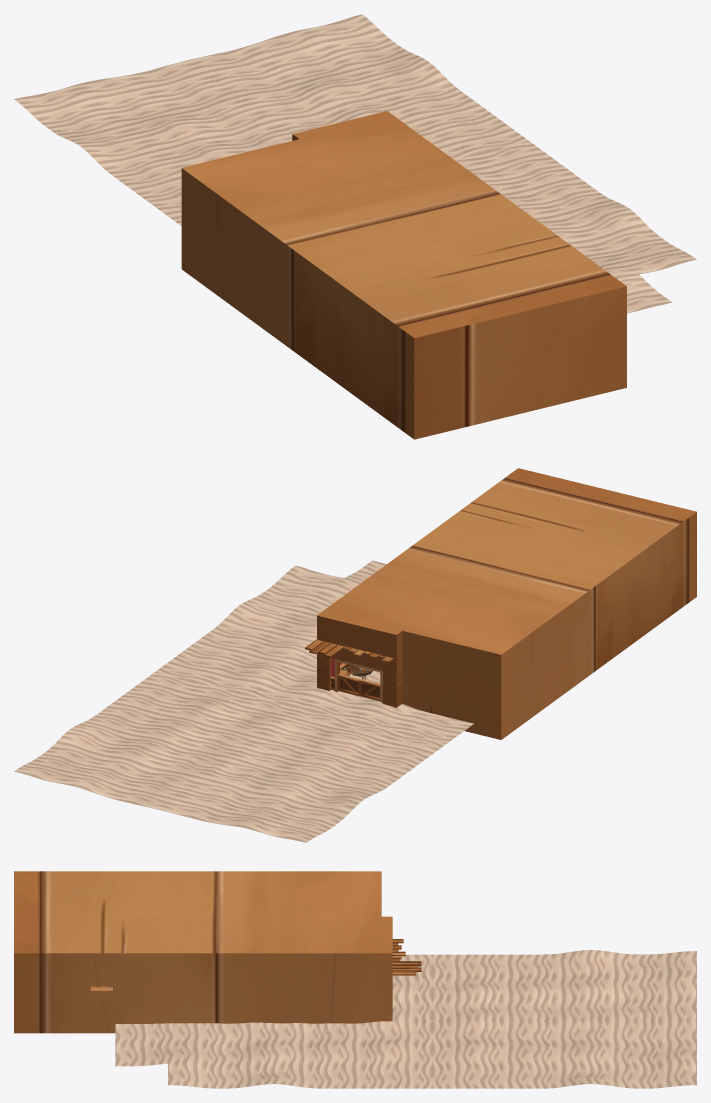
The model's file is garageB_applied2.fbx.
3 renders of one model, top to bottom at view 1: azimuth 30°, elevation 25°; view 2: azimuth 150°, elevation 25°; view 3: azimuth 270°, elevation 25°, orthographic. The views are drawn at different scales.
Visible parts, largest first — view 1: Cube.009, Ground; view 2: Cube.009, Ground; view 3: Cube.009, Ground, GroundPlanks014.004.
Boxes of the visible parts, <box> form: Cube.009: <box>181,111,626,439</box>; Ground: <box>14,14,696,313</box>; Cube.009: <box>317,468,696,739</box>; Ground: <box>14,560,473,842</box>; Cube.009: <box>14,871,392,1033</box>; Ground: <box>115,950,696,1088</box>; GroundPlanks014.004: <box>392,961,421,975</box>.
Bounding box in the file's own units: 2765 × 1404 × 358.
41 materials, 40 textured.
